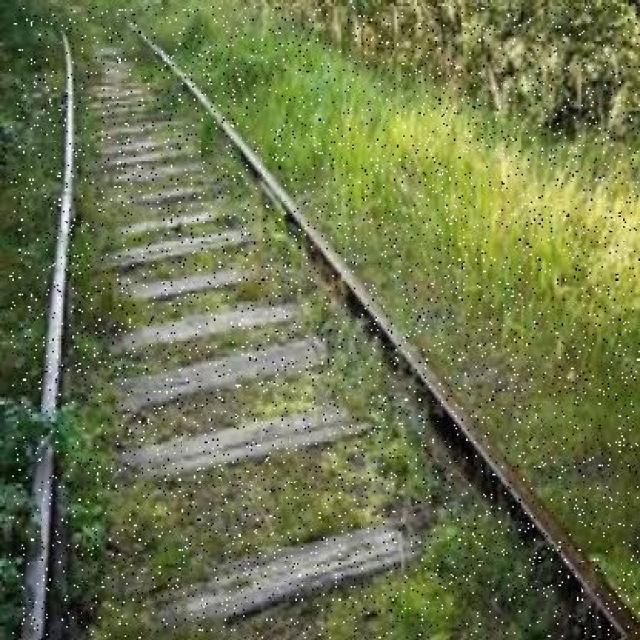rail: (10, 8, 640, 639)
